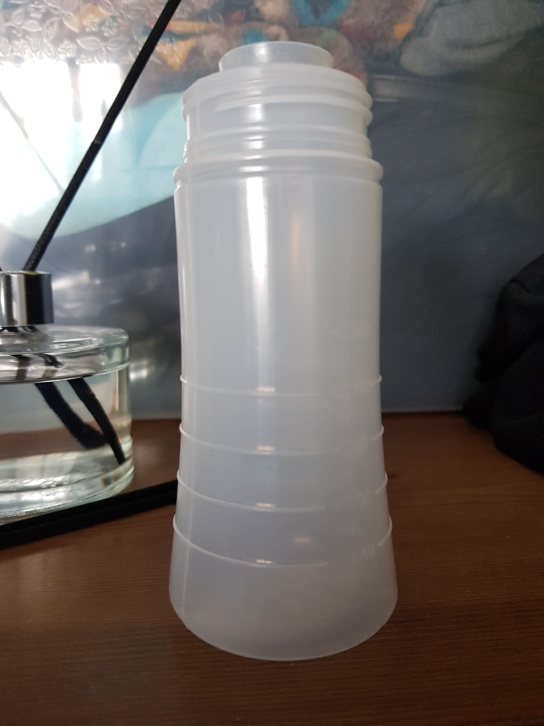Plastic: (167, 40, 399, 666)
